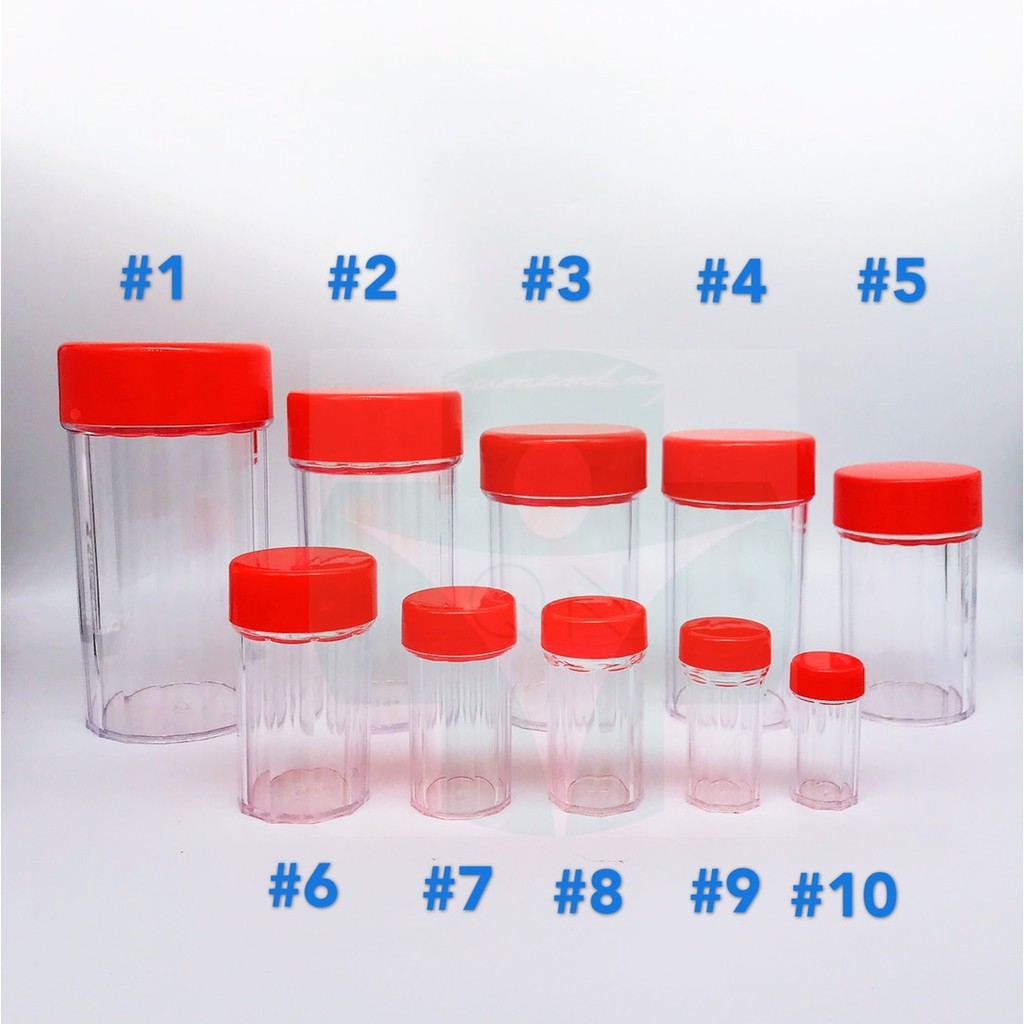medicinejar: (51, 337, 274, 745), (282, 386, 463, 735), (479, 413, 648, 732), (662, 420, 811, 734), (229, 549, 384, 834), (829, 454, 984, 725), (533, 598, 660, 832), (404, 586, 514, 832), (672, 613, 782, 818), (796, 642, 868, 810)
